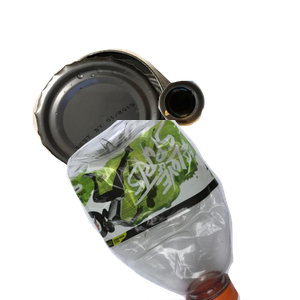glass: (156, 78, 300, 197)
metal: (30, 46, 205, 215)
plastic: (64, 120, 300, 300)
trash: (99, 155, 268, 300)
